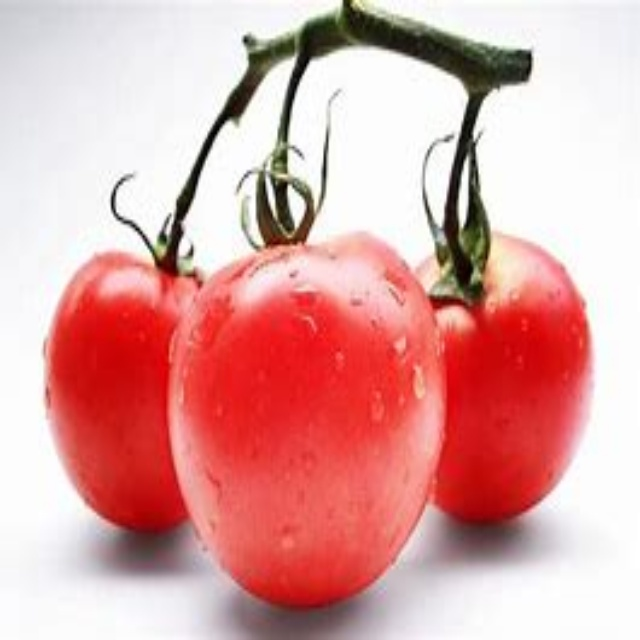tomato: (165, 232, 444, 609), (34, 235, 225, 542), (409, 225, 596, 535)
